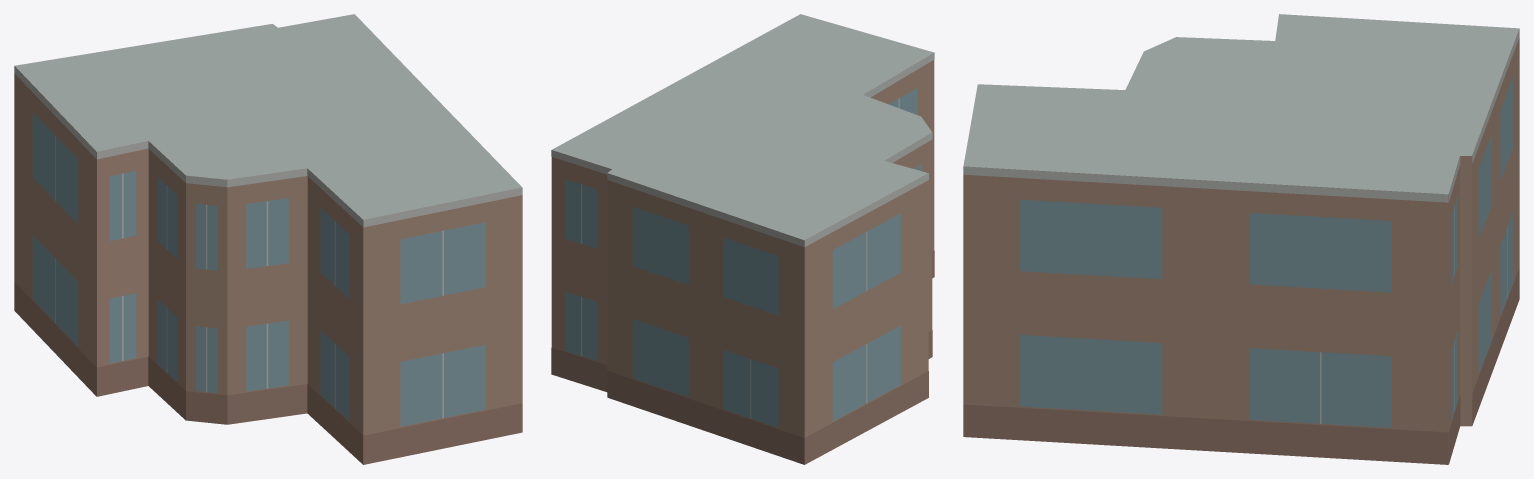
Rendered from survey-upis-32636440.glb.
3 renders of one model, left to right at view 1: azimuth 30°, elevation 25°; view 2: azimuth 150°, elevation 25°; view 3: azimuth 270°, elevation 25°, orthographic. The views are drawn at different scales.
Visible parts, largest first — view 1: survey-upis-32636440.tmp; view 2: survey-upis-32636440.tmp; view 3: survey-upis-32636440.tmp.
Part boxes in pixels (left/top/right/bottom): survey-upis-32636440.tmp: left=14, top=14, right=522, bottom=464; survey-upis-32636440.tmp: left=551, top=14, right=934, bottom=464; survey-upis-32636440.tmp: left=963, top=14, right=1519, bottom=464.
Bounding box in the file's own units: 11.38 × 7.95 × 14.83.
